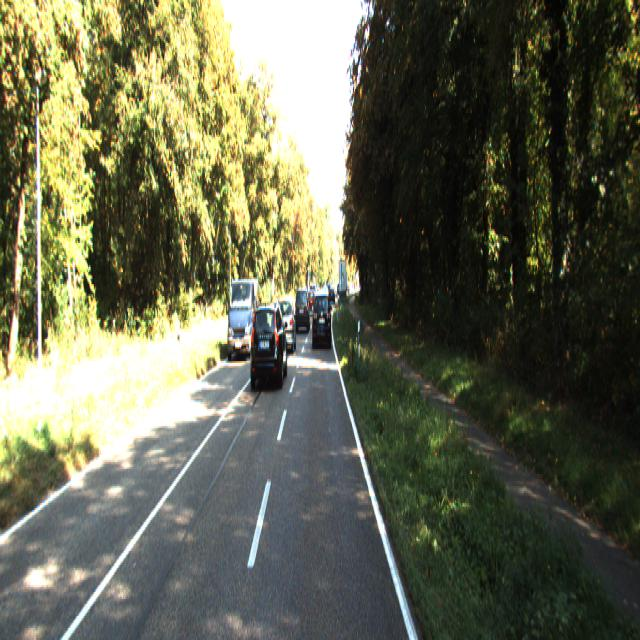Car: (249, 297, 288, 391), (227, 276, 261, 360), (275, 296, 296, 354), (313, 290, 332, 348), (293, 284, 308, 329)
